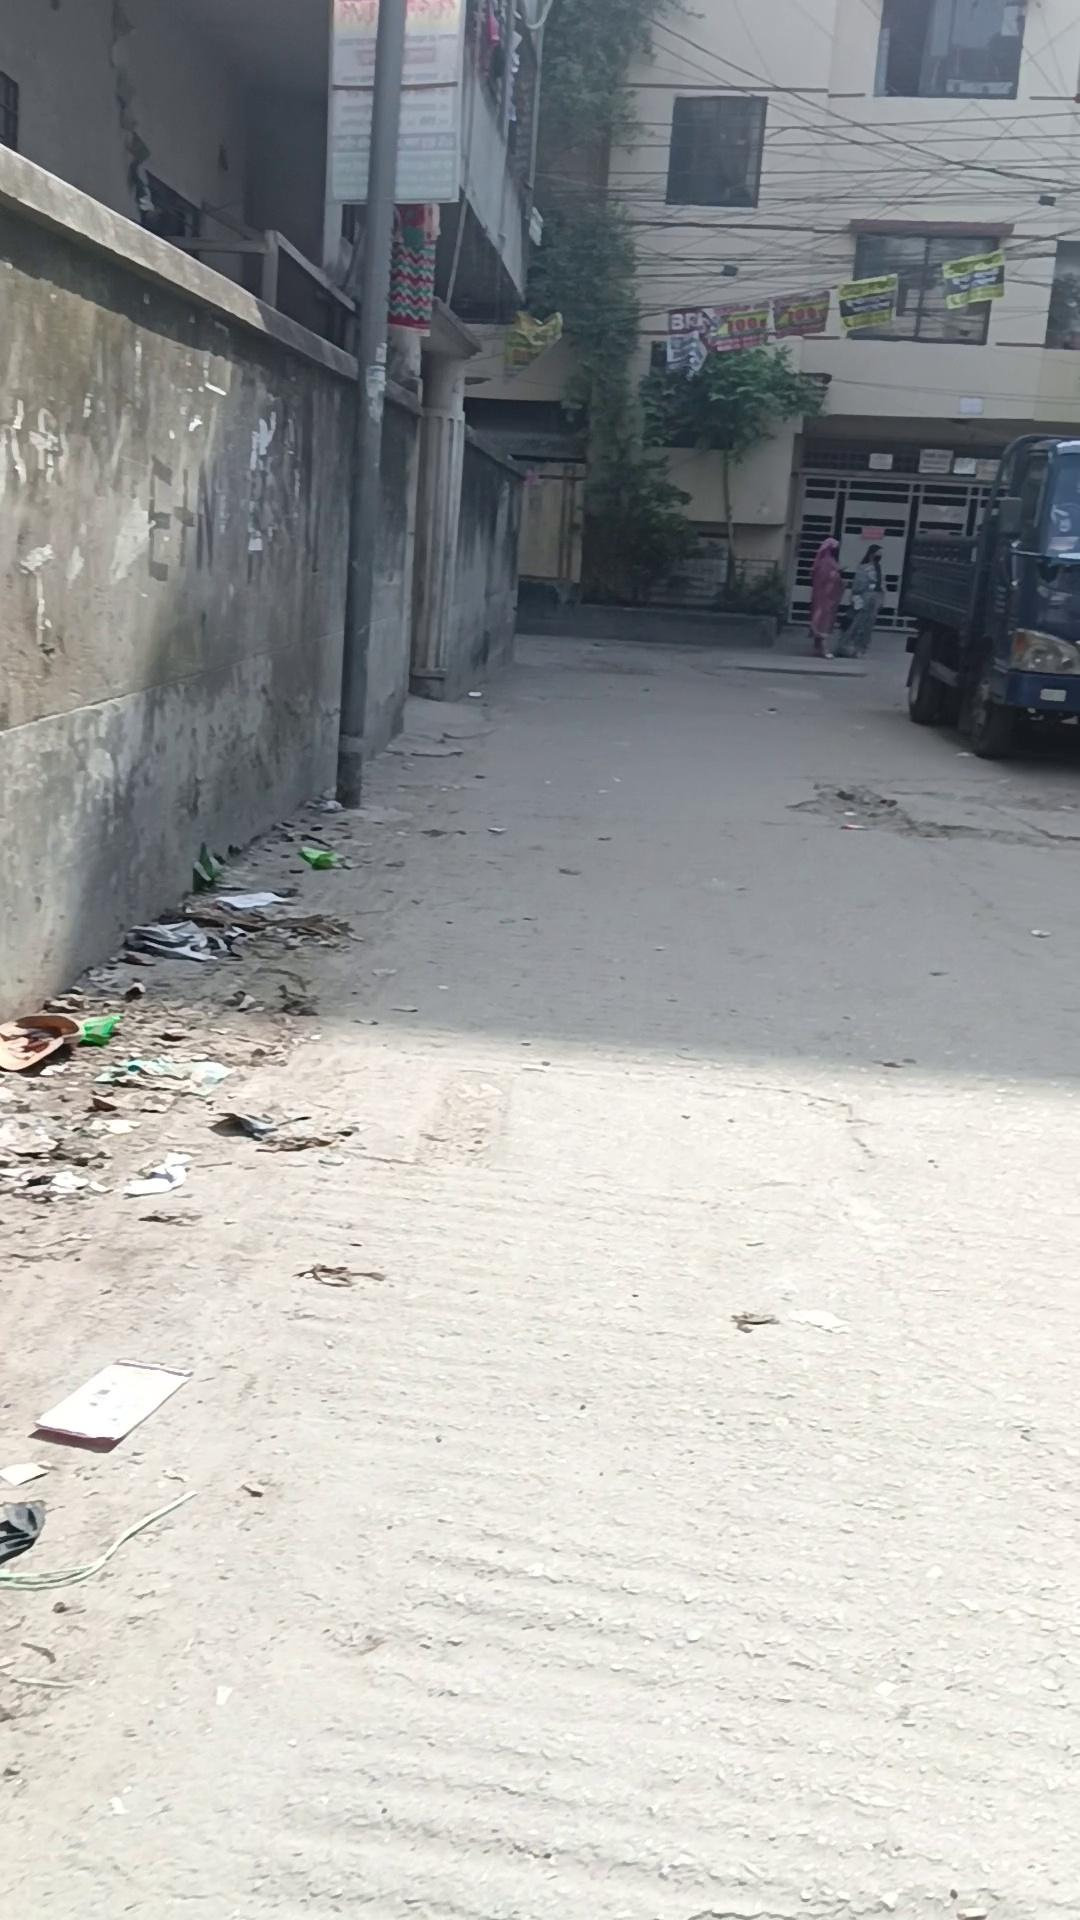Broken-road: (3, 624, 1077, 1916)
Crosswalk: (516, 596, 779, 649), (712, 658, 868, 679)
Muddy road: (837, 543, 884, 658), (807, 535, 847, 659)
Obstacle: (334, 1, 407, 808)
Traffic-cone: (626, 327, 816, 607)
Traffic-sign: (895, 430, 1077, 760)
Tree: (1, 138, 526, 1027)
